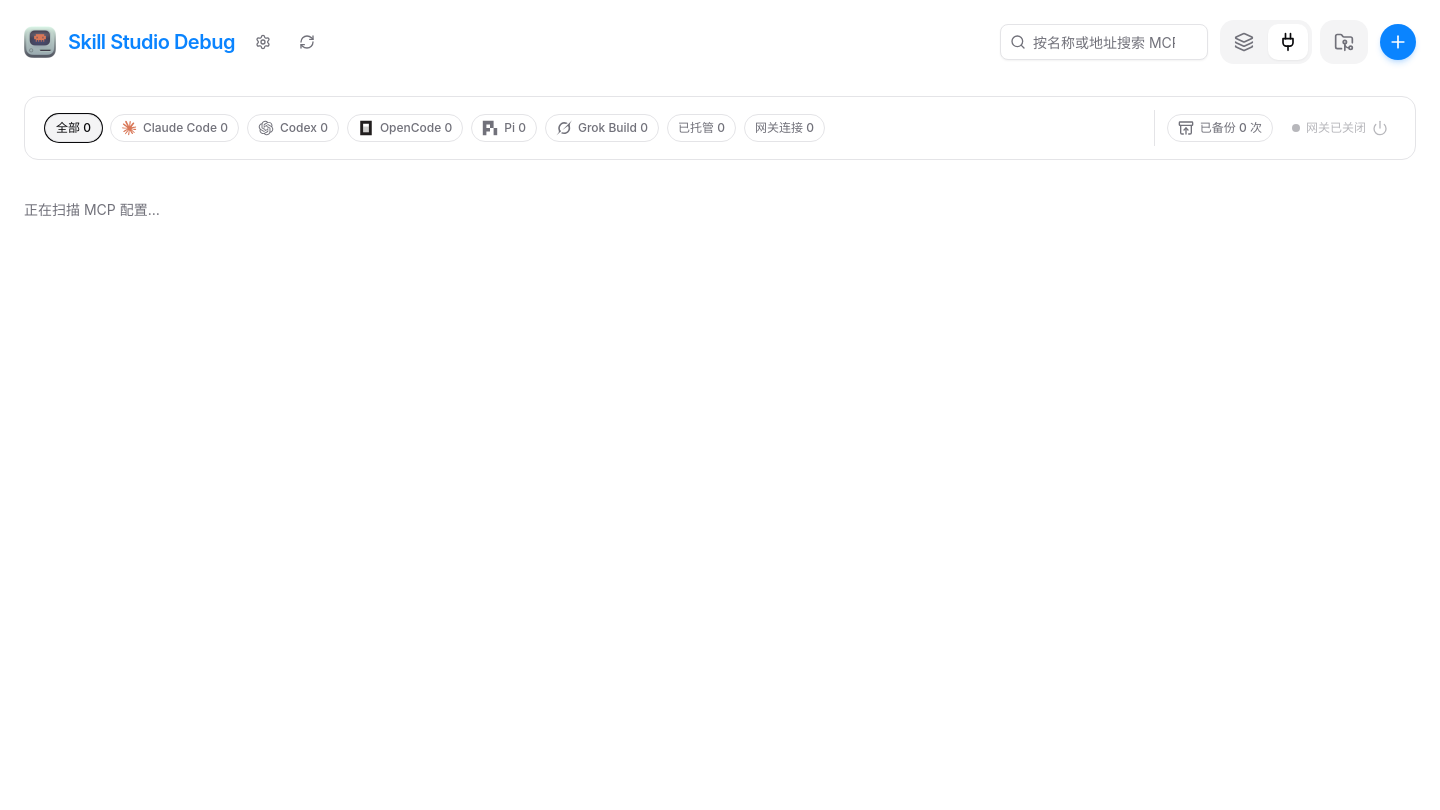
Test: uses the app subpage header and preserves Hub search when returning
This screenshot has width=1440, height=810.
Type "work" into the field labelled "按名称或地址搜索 MCP…". click: (1104, 42)
box: left=1000, top=24, right=1208, bottom=60
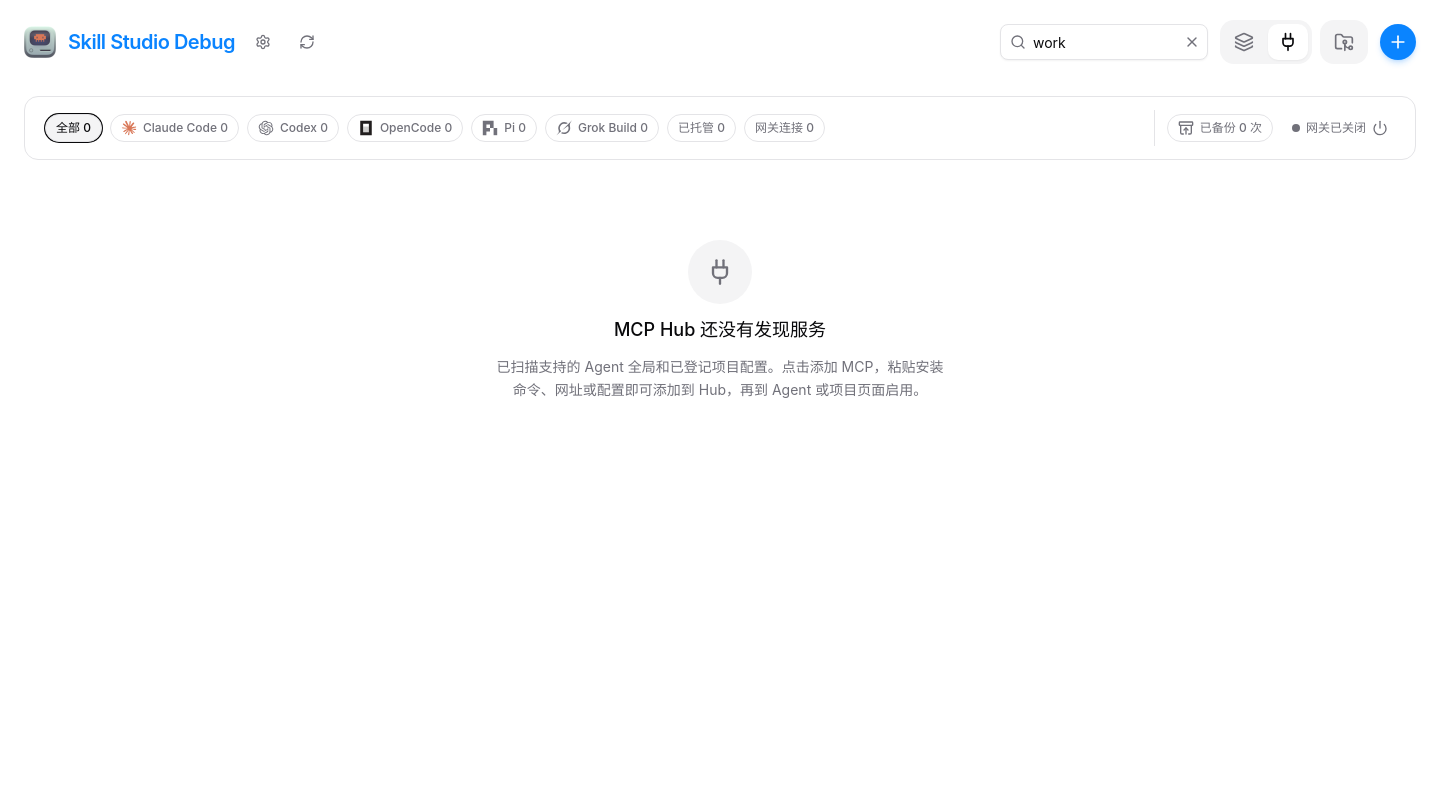
Click the button named "添加 MCP". click: (1398, 42)
box: left=1380, top=24, right=1416, bottom=60
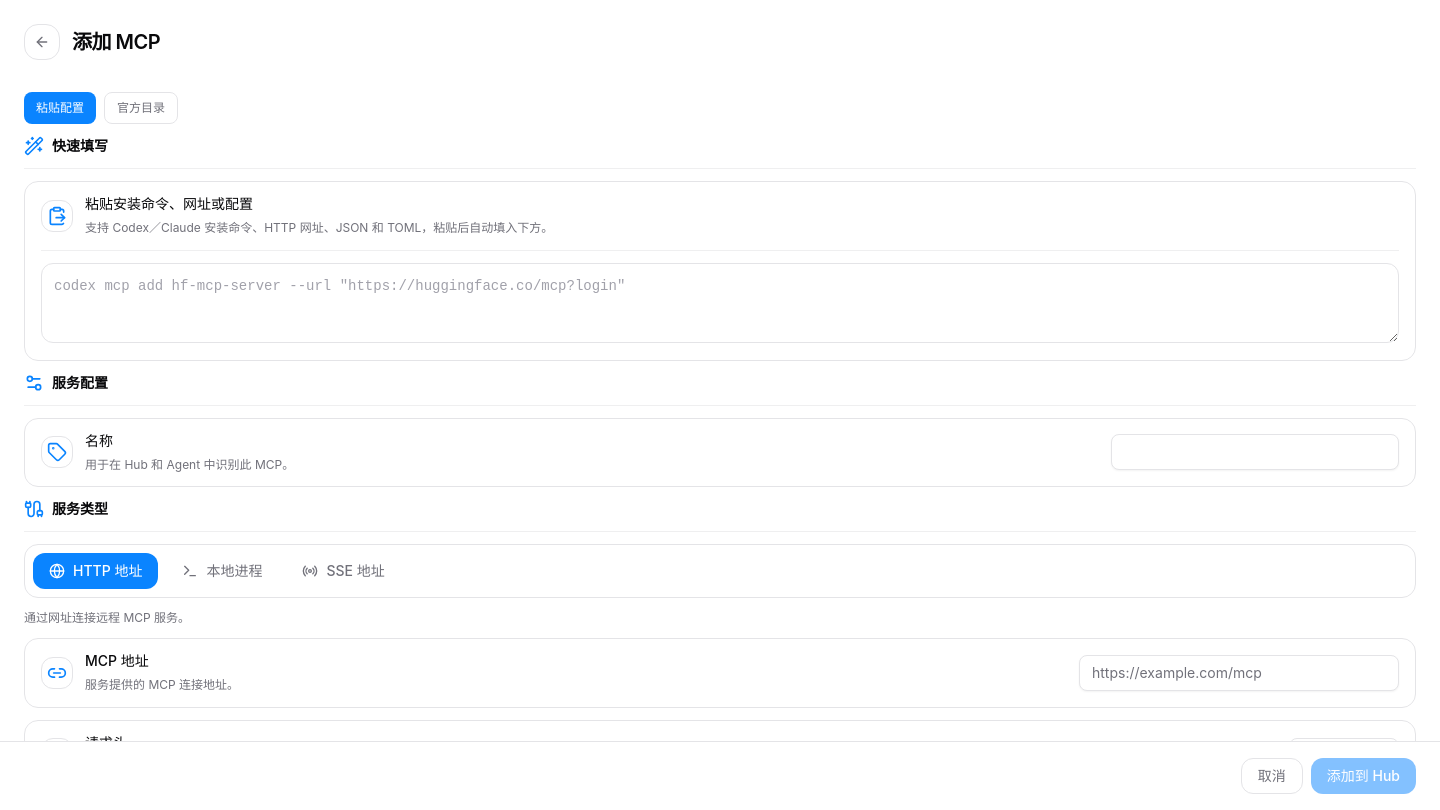
Now the navigation bar "主导航" is gone
Now the button "网关已关闭" is gone
Click the button named "返回". click: (42, 42)
box: left=24, top=24, right=60, bottom=60
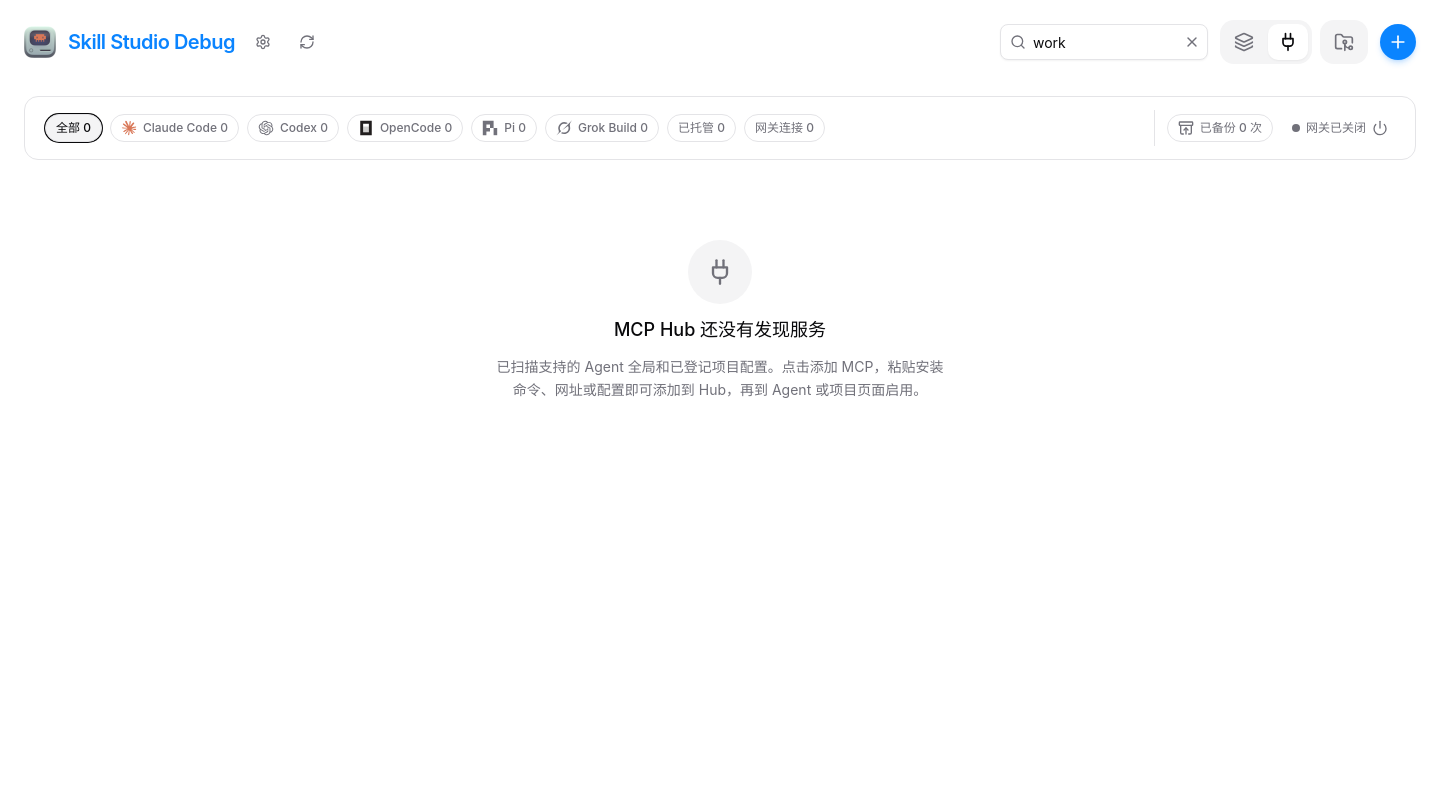
Now the field named "按名称或地址搜索 MCP…" holds "work", box left=1000, top=24, right=1208, bottom=60
